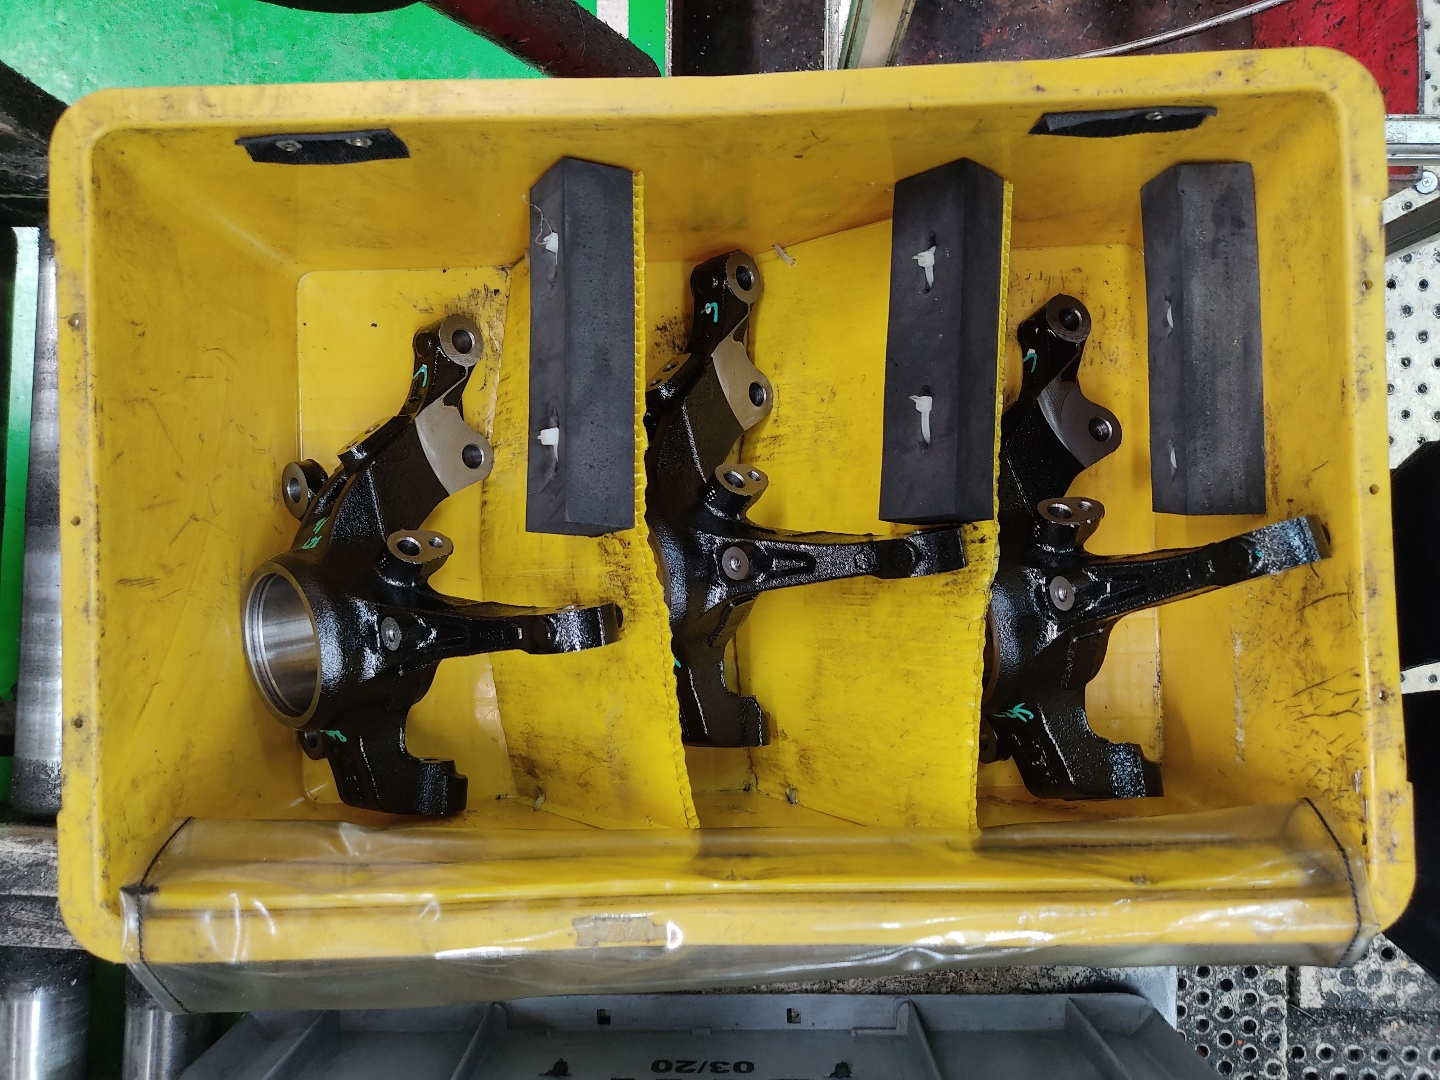abs-lh: (235, 309, 629, 832), (982, 284, 1346, 805), (639, 245, 972, 756)
